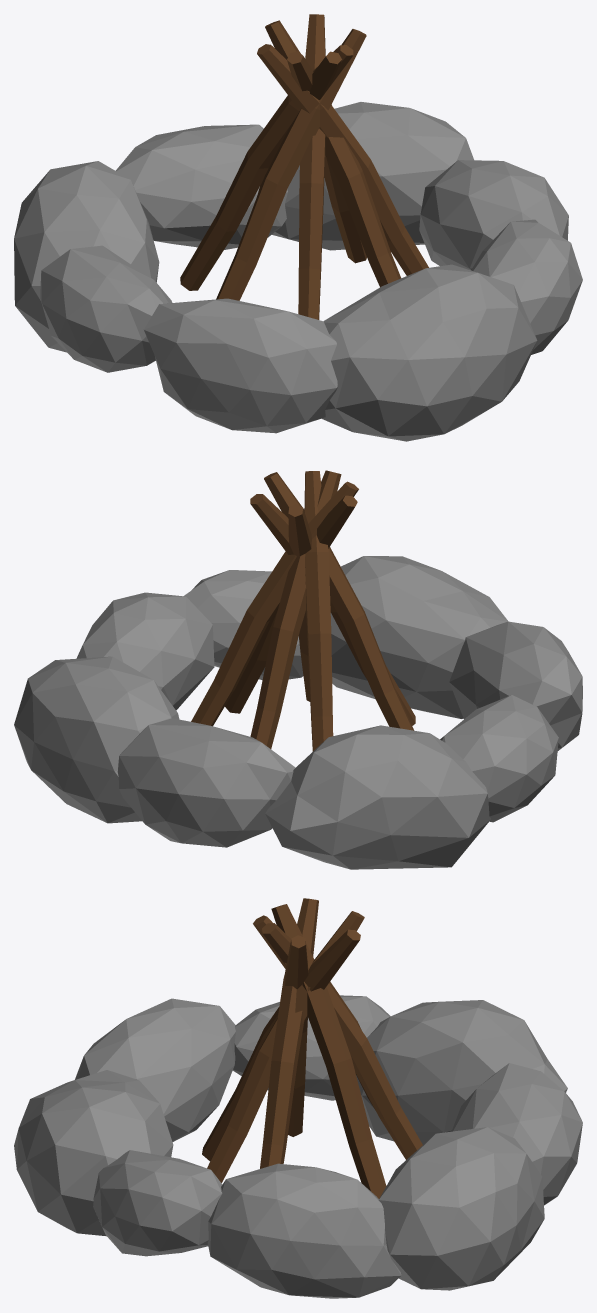
The model's file is Hub_Campfire.fbx.
3 views of the same model, one above another, from view 1: azimuth 30°, elevation 25°; view 2: azimuth 150°, elevation 25°; view 3: azimuth 270°, elevation 25° (orthographic). The views are drawn at different scales.
Visible parts, largest first — view 1: Firewood; view 2: Firewood; view 3: Firewood.
Boxes of the visible parts, x1,y1,x2,y2 form: Firewood: (14,14,582,441); Firewood: (14,470,582,869); Firewood: (14,898,582,1298).
Size of the model in its own units: 91.12 by 56.32 by 95.65.
